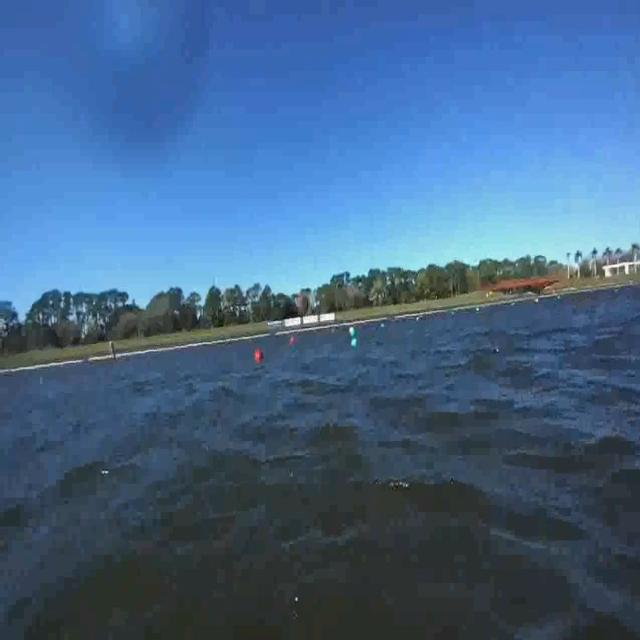green-buoy: (349, 334, 358, 351)
red-buoy: (254, 350, 262, 362)
